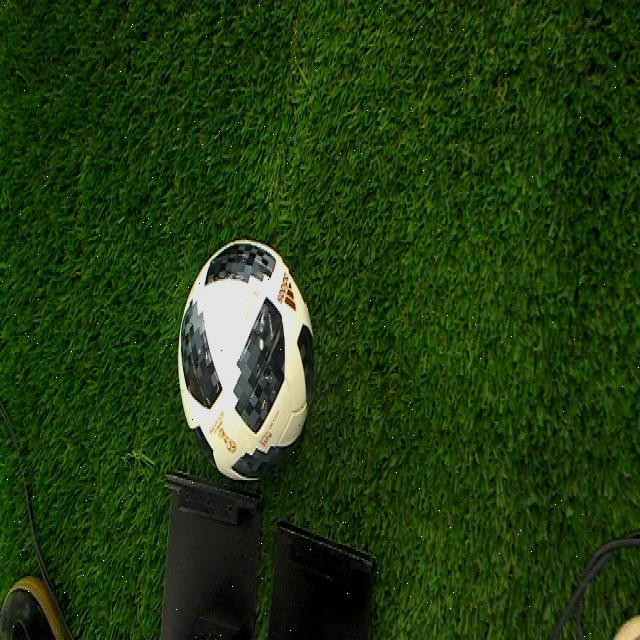ball: (177, 236, 316, 482)
